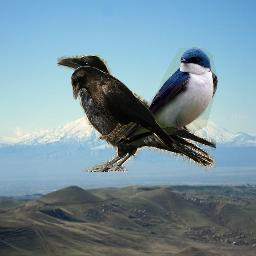Crow: (57, 55, 216, 172), (71, 66, 176, 149)
Swallow: (115, 47, 218, 146)
